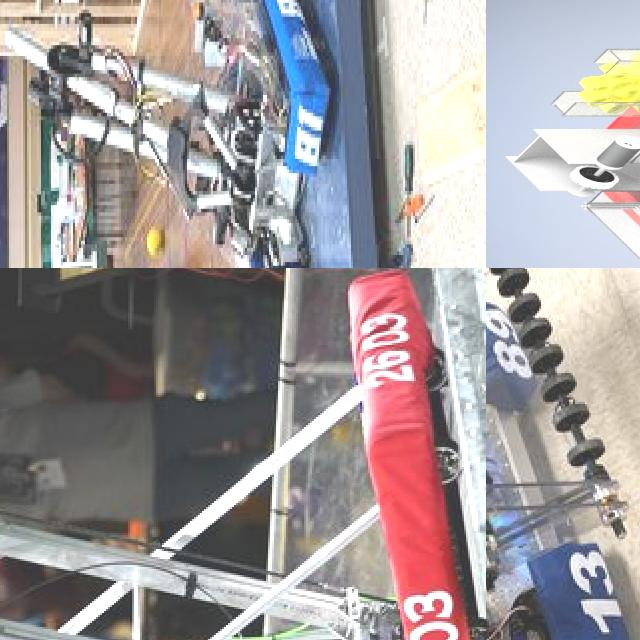FRC-Robots: (0, 268, 486, 640), (0, 0, 346, 268), (486, 268, 640, 640), (486, 7, 640, 268)
